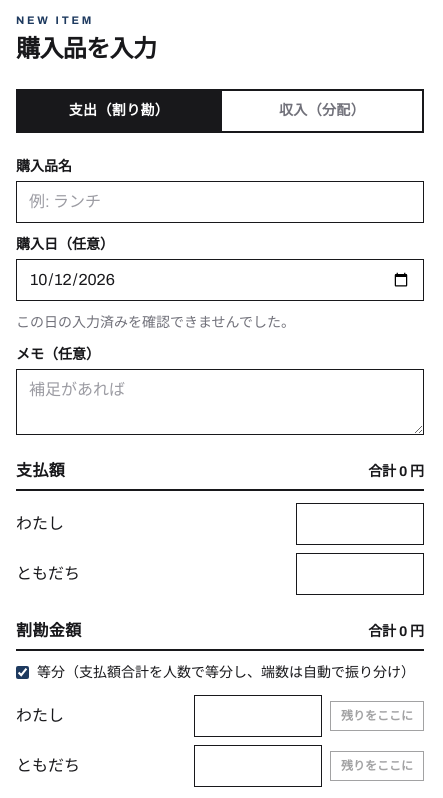
Test case: 等分はデフォルト ON で、支払額を入力すると割勘金額へ等分入力される
Expected: the checkbox is checked, left=16, top=666, right=29, bottom=679
// 等分はデフォルト ON のため、支払額 1000 を入力するだけで 2 人へ 500 ずつ等分される（端数なしで決定的）。
In the number field named "わたし の支払額": (360, 524) left=296, top=502, right=424, bottom=544, type "1000"
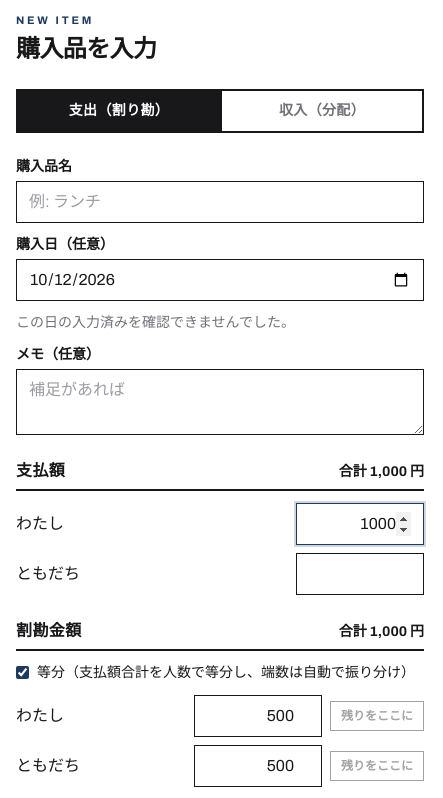
Result: the number field named "わたし の割勘金額" holds "500" at left=194, top=694, right=322, bottom=736
Result: the number field named "ともだち の割勘金額" holds "500" at left=194, top=744, right=322, bottom=786
